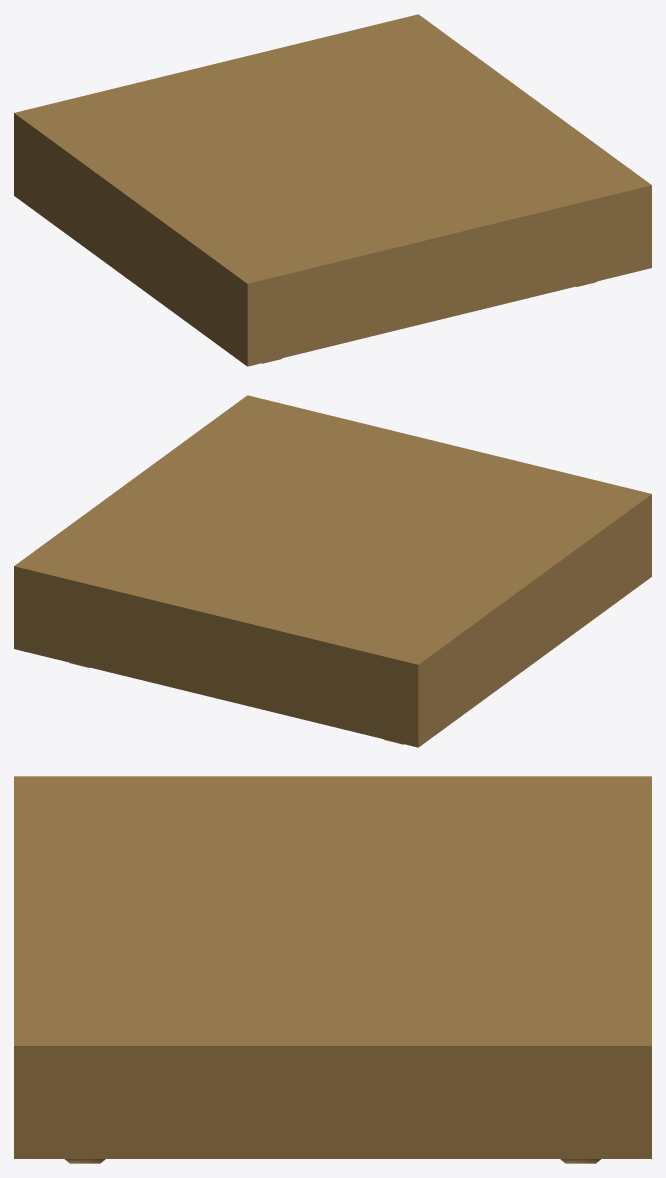
Rendered from Moon_Lamp_Foot.fbx.
The picture shows the model from 3 angles, top to bottom: view 1: azimuth 30°, elevation 25°; view 2: azimuth 150°, elevation 25°; view 3: azimuth 270°, elevation 25°; orthographic projection. The views are drawn at different scales.
Parts seen in each view (by area): view 1: Moon_Lamp_Foot; view 2: Moon_Lamp_Foot; view 3: Moon_Lamp_Foot.
Part boxes in pixels (box(x1,y1,x2,y2)): Moon_Lamp_Foot: box(14, 14, 651, 366); Moon_Lamp_Foot: box(14, 395, 651, 747); Moon_Lamp_Foot: box(14, 776, 651, 1163).
Bounding box in the file's own units: 33.06 × 8.08 × 33.06.
